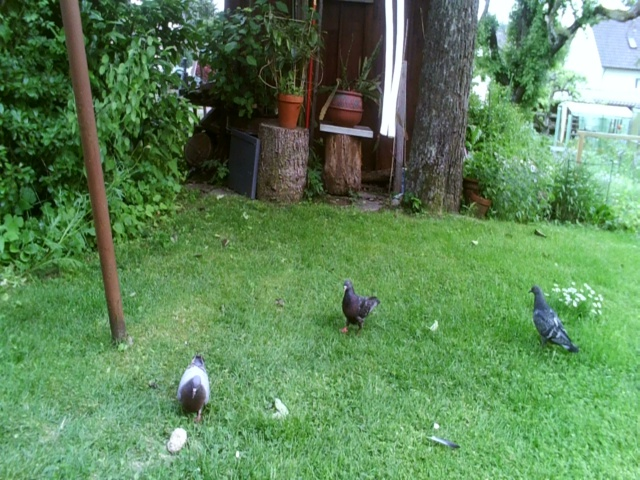Pigeon: (524, 282, 583, 367), (166, 350, 221, 420), (335, 268, 385, 341)
